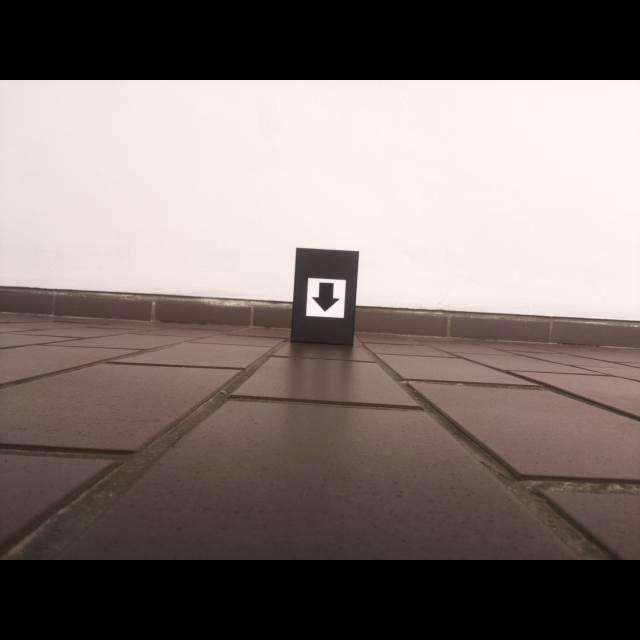DOWN: (310, 281, 341, 313)
